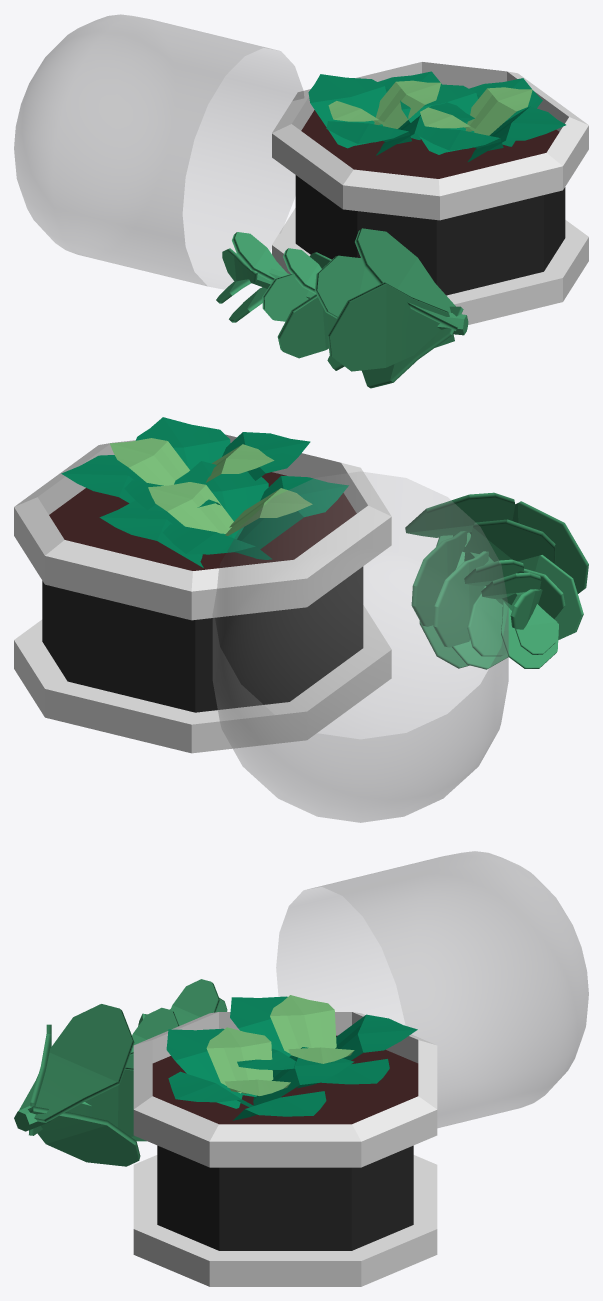
The model's file is Destroyed_plant_farm_011.fbx.
3 renders of one model, top to bottom at view 1: azimuth 30°, elevation 25°; view 2: azimuth 150°, elevation 25°; view 3: azimuth 270°, elevation 25°, orthographic. The views are drawn at different scales.
Parts seen in each view (by area): view 1: polySurface1456, polySurface1875, polySurface2426, polySurface2430, polySurface2427; view 2: polySurface1456, polySurface1875, polySurface2426, polySurface2430, polySurface2427; view 3: polySurface1875, polySurface1456, polySurface2426, polySurface2427, polySurface2430.
Part boxes in pixels (left/top/right/bottom): polySurface1456: left=14, top=14, right=303, bottom=289; polySurface1875: left=272, top=62, right=588, bottom=324; polySurface2426: left=216, top=228, right=468, bottom=388; polySurface2430: left=308, top=71, right=474, bottom=155; polySurface2427: left=400, top=78, right=565, bottom=161; polySurface1456: left=212, top=471, right=508, bottom=822; polySurface1875: left=14, top=434, right=391, bottom=753; polySurface2426: left=405, top=492, right=588, bottom=669; polySurface2430: left=99, top=461, right=348, bottom=567; polySurface2427: left=61, top=417, right=310, bottom=510; polySurface1875: left=133, top=1012, right=437, bottom=1286; polySurface1456: left=276, top=851, right=588, bottom=1127; polySurface2426: left=14, top=979, right=227, bottom=1166; polySurface2427: left=166, top=1027, right=354, bottom=1120; polySurface2430: left=230, top=995, right=417, bottom=1088.
Bounding box in the file's own units: 2.58 × 1.35 × 2.68.
